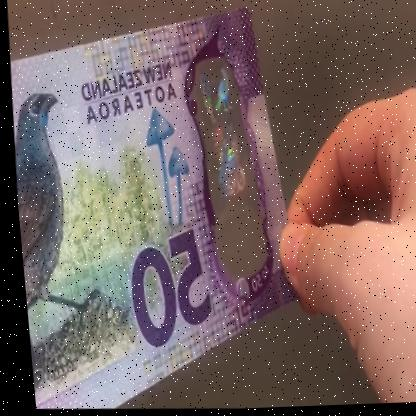50B: (188, 64, 259, 269)
